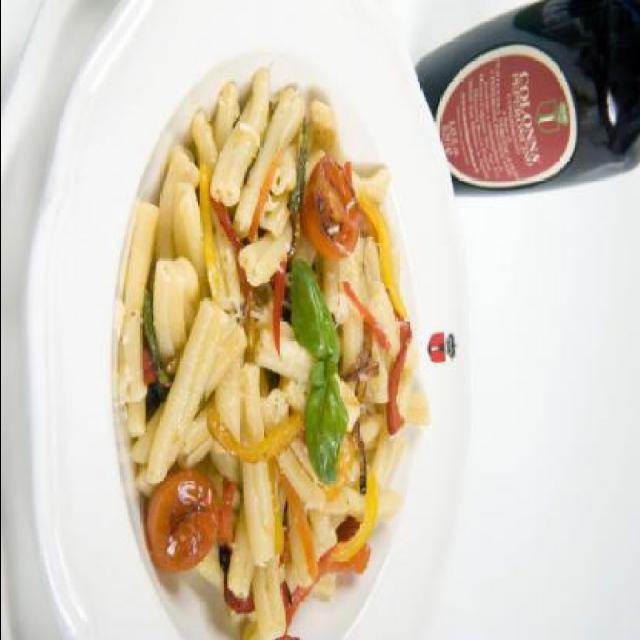Oil pasta: (109, 91, 456, 638)
